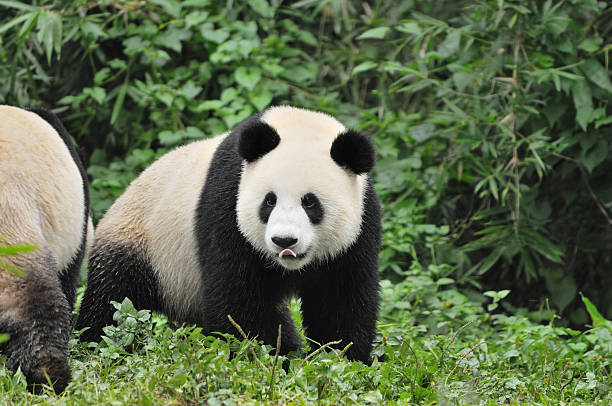panda: (214, 91, 399, 271)
